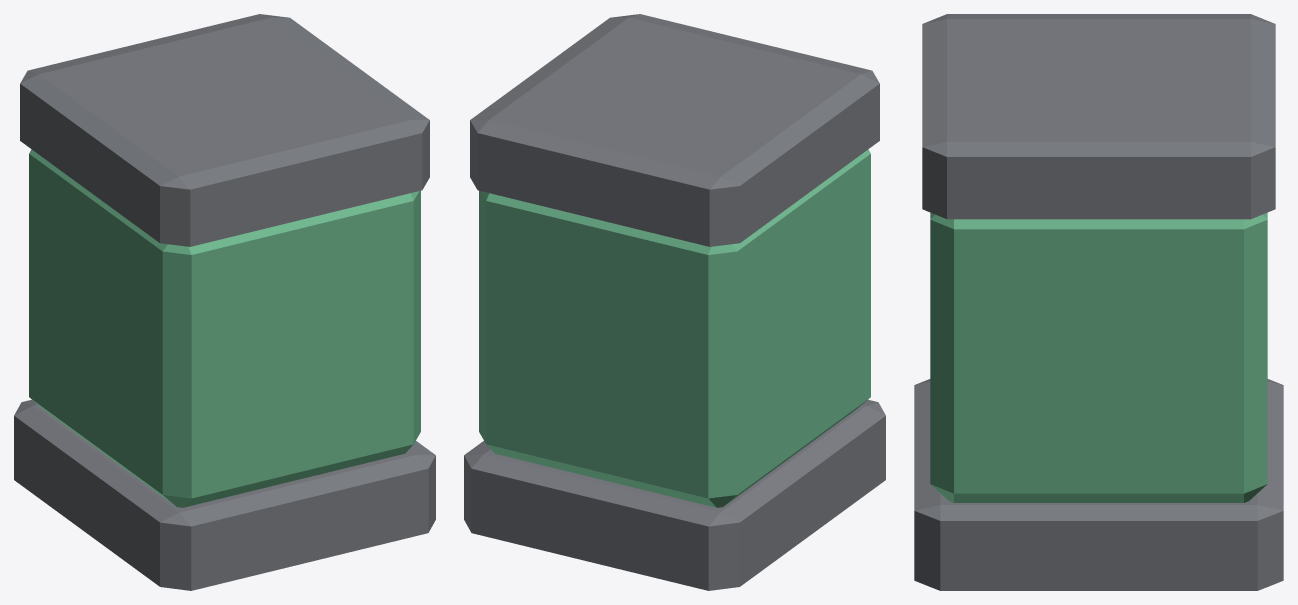
File: b05_polemount_transformer_can.glb
The picture shows the model from 3 angles, left to right: view 1: azimuth 30°, elevation 25°; view 2: azimuth 150°, elevation 25°; view 3: azimuth 270°, elevation 25°; orthographic projection. The views are drawn at different scales.
Visible parts, largest first — view 1: b05_polemount_transformer_can; view 2: b05_polemount_transformer_can; view 3: b05_polemount_transformer_can.
Part boxes in pixels (<box>): b05_polemount_transformer_can: <box>14,14,435,590</box>; b05_polemount_transformer_can: <box>464,14,885,590</box>; b05_polemount_transformer_can: <box>914,14,1283,590</box>.
Size of the model in its own units: 0.75 by 1.06 by 0.8.
